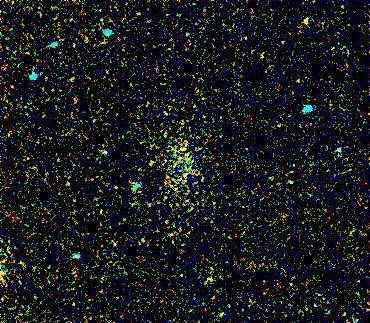star: (291, 6, 321, 36)
